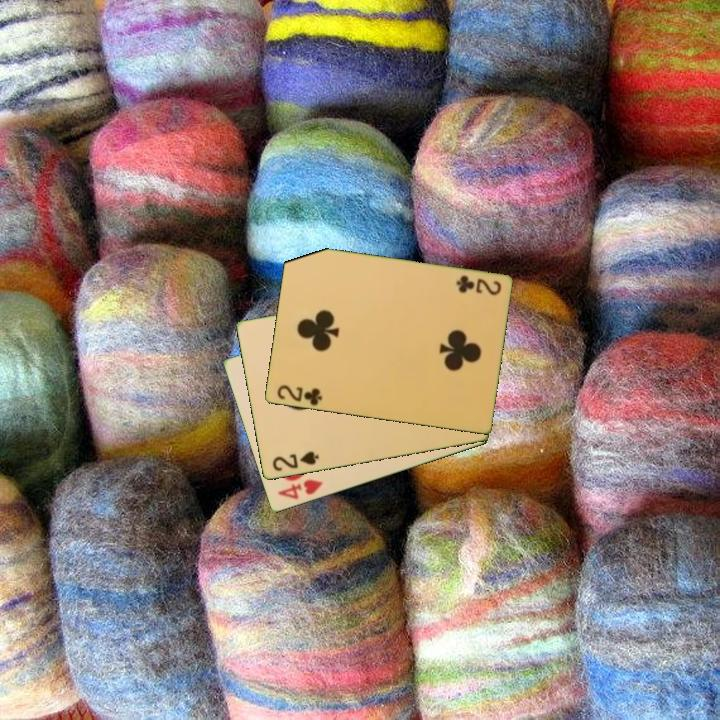2c: (273, 382, 325, 408), (452, 272, 504, 298)
2s: (268, 448, 322, 474)
4h: (274, 476, 325, 503)
